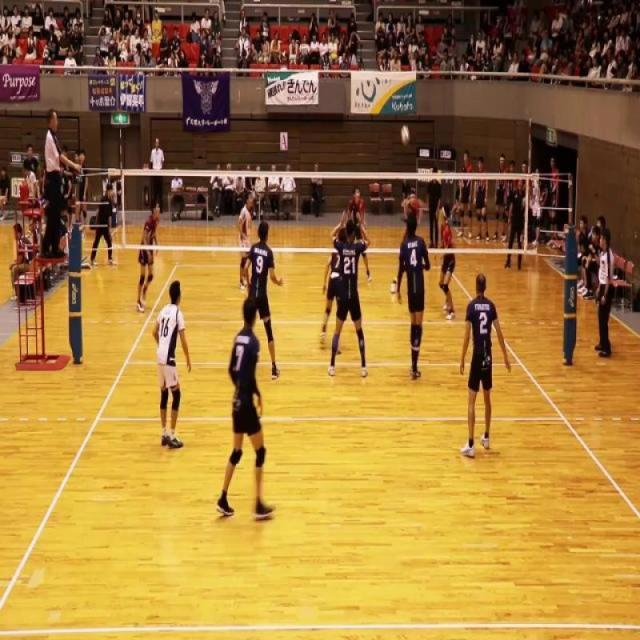volleyball: (400, 122, 410, 148)
